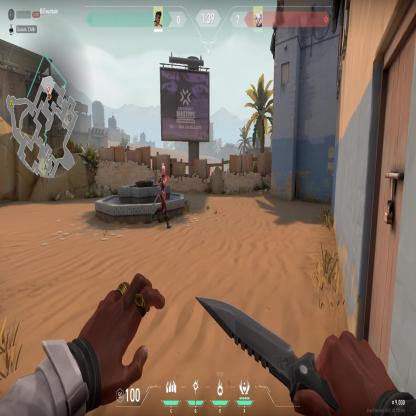enemy: (151, 164, 172, 230)
